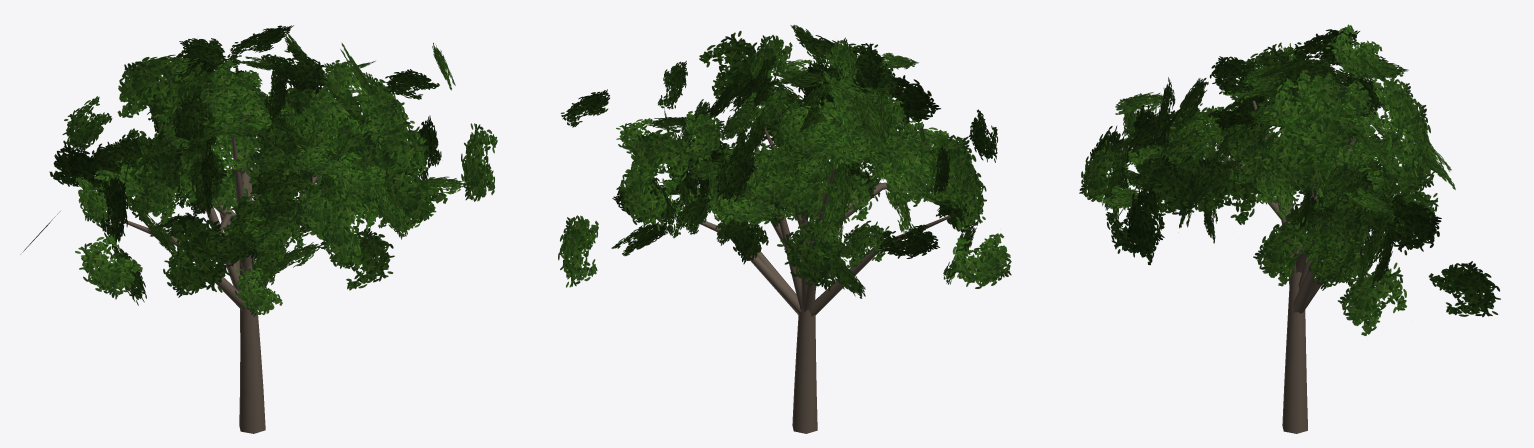
File: Cay3_TanRong.glb
3 renders of one model, left to right at view 1: azimuth 30°, elevation 25°; view 2: azimuth 150°, elevation 25°; view 3: azimuth 270°, elevation 25°, orthographic. The views are drawn at different scales.
Parts seen in each view (by area): view 1: Cay3_TanRong; view 2: Cay3_TanRong; view 3: Cay3_TanRong.
Boxes of the visible parts, x1,y1,x2,y2 form: Cay3_TanRong: [20, 25, 497, 433]; Cay3_TanRong: [558, 24, 1011, 433]; Cay3_TanRong: [1079, 24, 1500, 433].
Bounding box in the file's own units: 11.14 × 9.11 × 9.44.
Materials: 2 (1 with a texture image).
